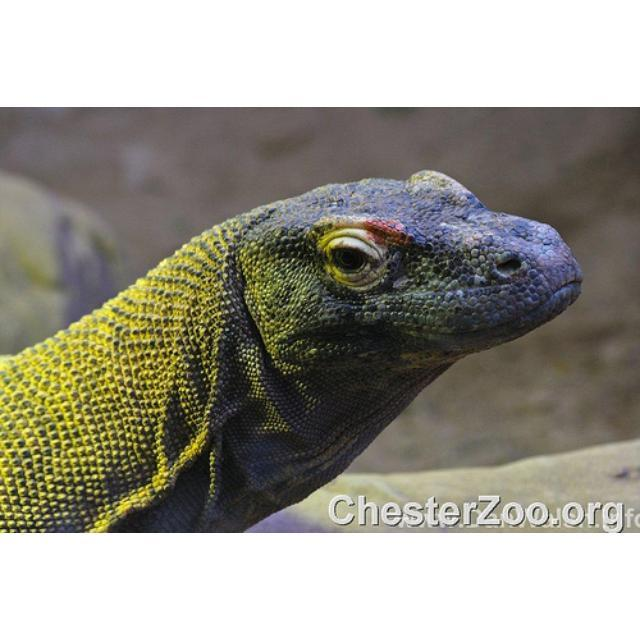KomodoDragon: (1, 168, 584, 531)
